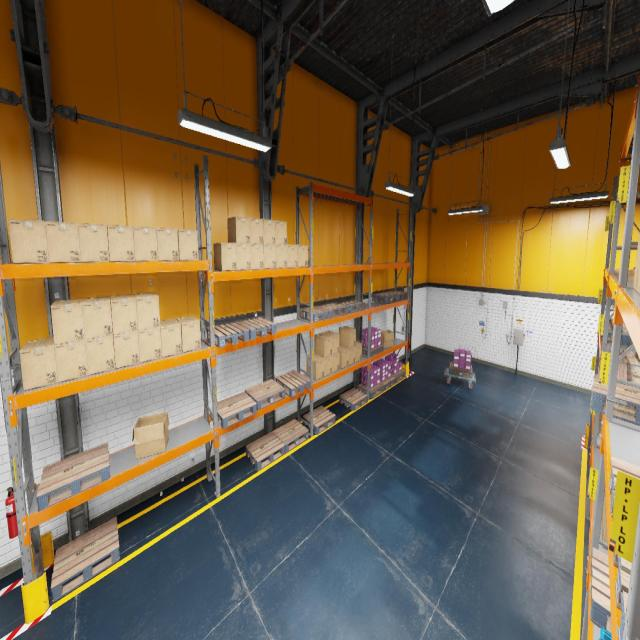box: (19, 337, 58, 391), (8, 219, 49, 263), (132, 412, 169, 459), (51, 299, 85, 344), (45, 221, 81, 263), (54, 340, 88, 382), (82, 296, 113, 339), (78, 223, 109, 262), (85, 335, 115, 375), (110, 294, 138, 334), (112, 331, 140, 368), (107, 225, 135, 261), (134, 292, 160, 330), (176, 316, 201, 352), (160, 318, 182, 358), (133, 226, 158, 261), (138, 327, 162, 363), (156, 228, 179, 260), (213, 243, 237, 271), (178, 229, 198, 260), (228, 216, 250, 244), (306, 353, 324, 380), (315, 332, 332, 358), (322, 331, 340, 354), (633, 232, 640, 291), (236, 243, 251, 270), (339, 326, 356, 348), (250, 244, 264, 269), (250, 218, 263, 244), (602, 493, 608, 549), (263, 219, 276, 244), (264, 244, 276, 269), (341, 345, 355, 365), (276, 245, 287, 268), (276, 221, 287, 244), (287, 245, 298, 267), (381, 330, 394, 348), (298, 244, 308, 266), (339, 345, 348, 368), (332, 352, 340, 373), (355, 341, 362, 362), (325, 355, 332, 376), (636, 263, 640, 293), (602, 488, 605, 526), (599, 413, 602, 437), (599, 413, 601, 428), (599, 414, 600, 419)
pallets: (50, 517, 120, 602), (36, 442, 110, 510), (590, 374, 640, 425), (609, 457, 640, 518), (590, 548, 611, 634), (212, 392, 257, 428), (613, 552, 631, 640), (246, 432, 285, 471), (245, 379, 285, 410), (272, 419, 308, 453), (207, 322, 250, 348), (275, 370, 311, 398), (598, 361, 640, 383), (303, 406, 336, 434), (236, 318, 276, 340), (601, 324, 631, 346), (339, 388, 368, 410), (609, 348, 640, 368), (300, 306, 332, 322), (317, 303, 348, 317), (358, 383, 384, 398), (449, 362, 473, 378), (339, 300, 365, 313), (362, 344, 383, 356), (372, 293, 397, 303), (384, 290, 408, 300), (380, 376, 395, 390), (390, 370, 406, 383), (604, 318, 625, 325), (588, 532, 590, 567), (590, 442, 591, 452)
